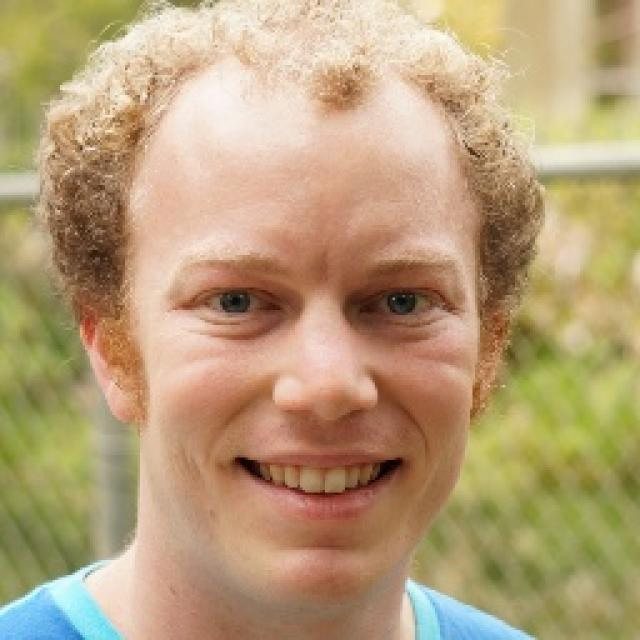earlobe: (106, 371, 146, 425)
eye: (359, 288, 438, 320), (200, 288, 272, 316)
nose: (269, 395, 384, 464)
wholeear: (74, 287, 148, 424)
